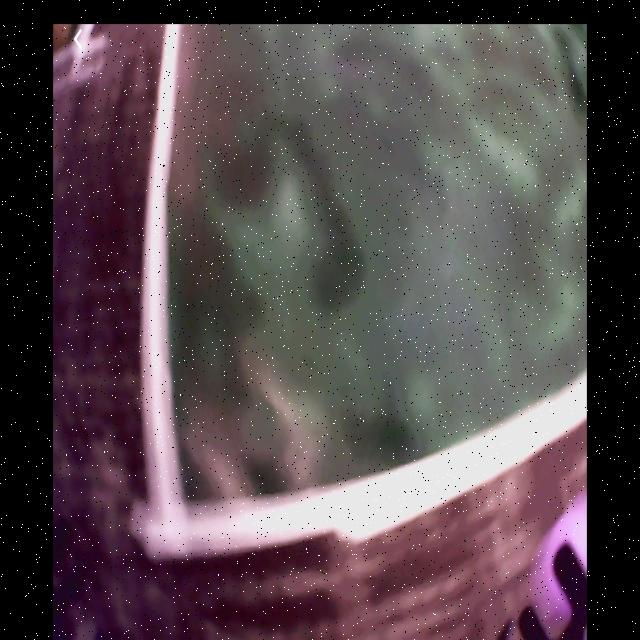ball: (536, 502, 589, 624)
